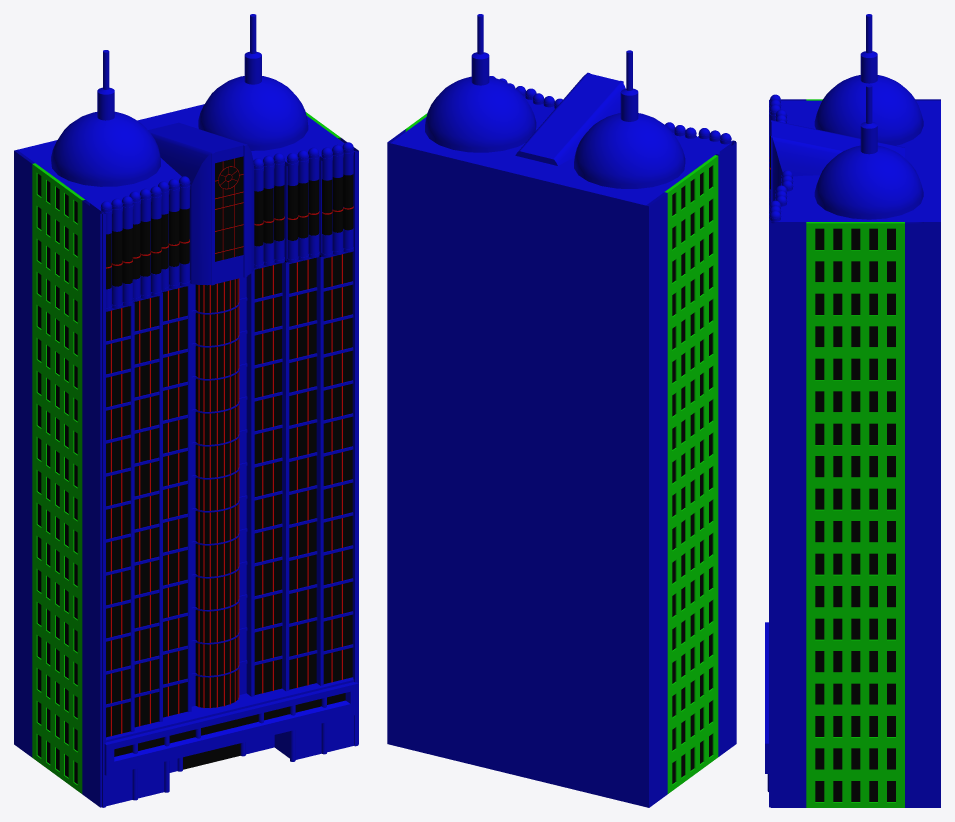
File: BgMD_BigBuilding_hightower.fbx
The picture shows the model from 3 angles, left to right: view 1: azimuth 30°, elevation 25°; view 2: azimuth 150°, elevation 25°; view 3: azimuth 270°, elevation 25°; orthographic projection. The views are drawn at different scales.
Visible parts, largest first — view 1: BgMD_BigBuilding_01_merged2; view 2: BgMD_BigBuilding_01_merged2; view 3: BgMD_BigBuilding_01_merged2.
Part boxes in pixels (x1,y1,x2,y2): BgMD_BigBuilding_01_merged2: (14,14,358,807); BgMD_BigBuilding_01_merged2: (387,14,736,807); BgMD_BigBuilding_01_merged2: (765,14,940,807).
Size of the model in its own units: 2460 by 6422 by 1471.
